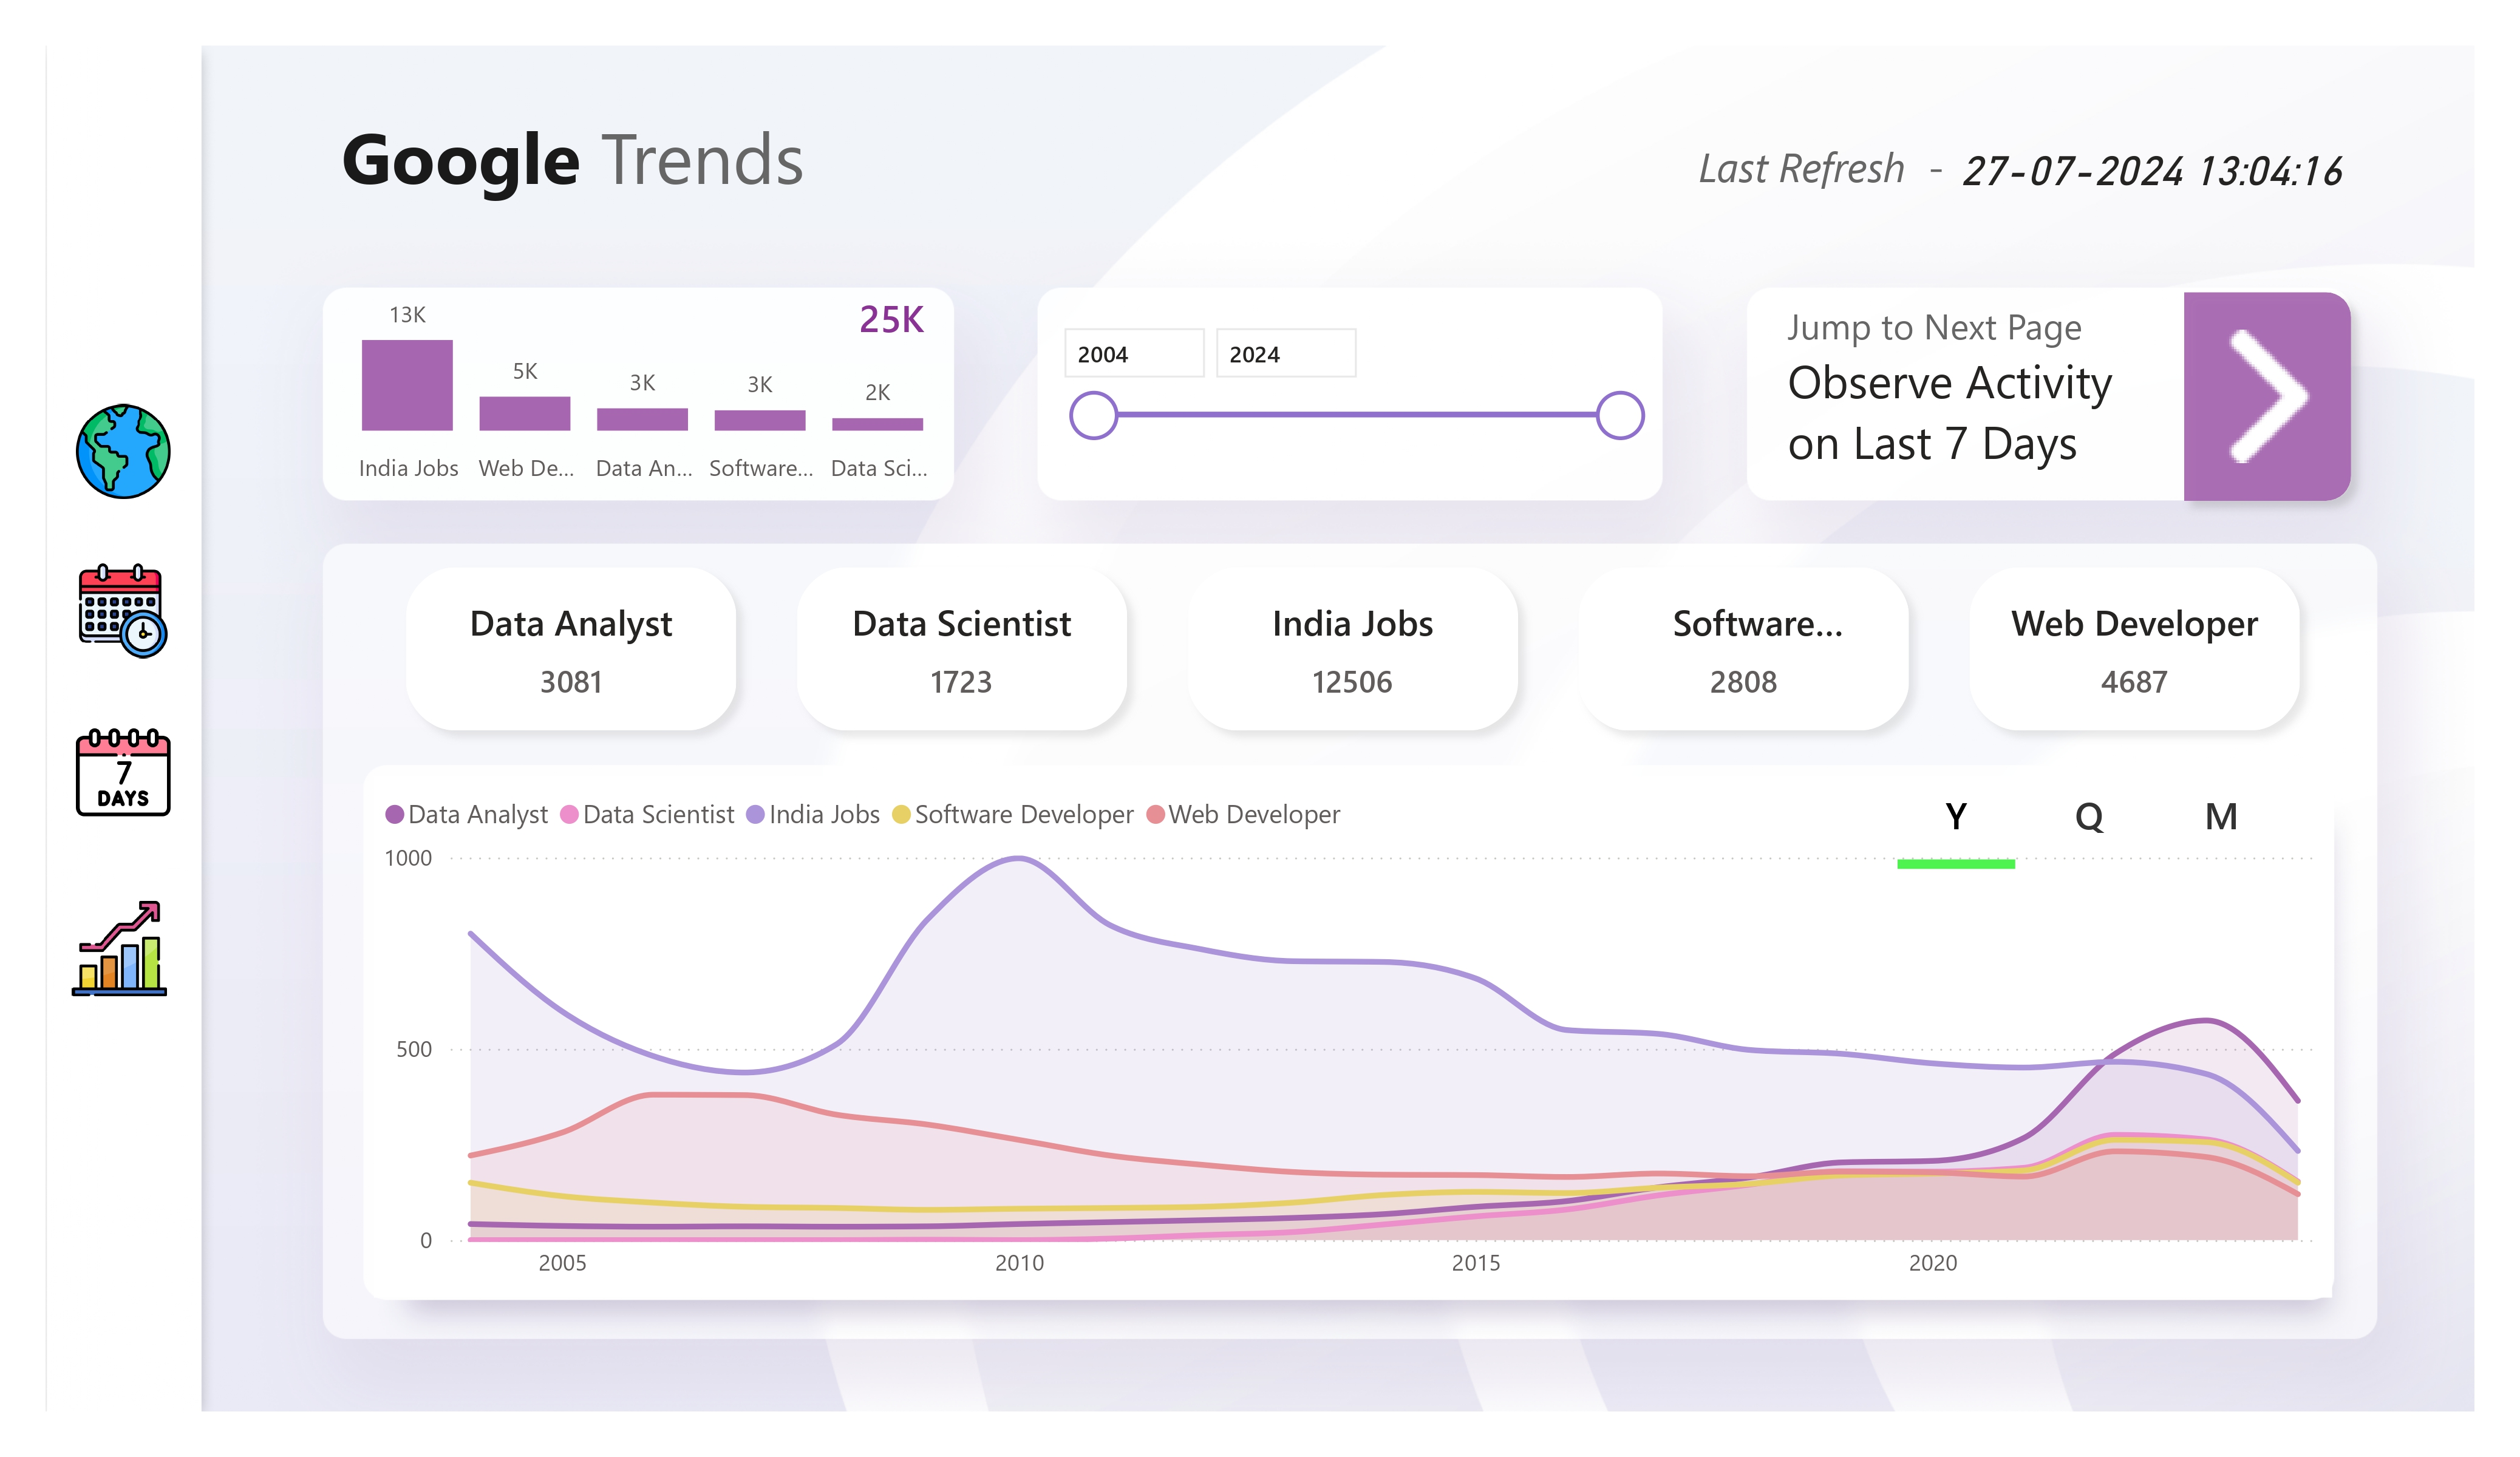

The dashboard page shown, as its layout file describes it:
{"tool":"powerbi","page":{"name":"Keywords By Date","canvas":[1280,720],"ordinal":1},"visuals":[{"type":"lineChart","fields":{"Category":["API_Date.Year"],"Y":["Country Measure Table.By Date Value"],"Series":["API_Date.Keywords"]},"box":[172.5,385,1032.5,275],"z":0},{"type":"slicer","fields":{"Values":["API_Date.Year"]},"box":[523.8,138.8,327.5,98.8],"z":1000},{"type":"advancedSlicerVisual","fields":{"Values":["Dynamic-Date.Dynamic-Date"]},"box":[971.2,370,211.2,68.8],"z":2000},{"type":"advancedSlicerVisual","fields":{"Values":["API_Date.Keywords"]},"box":[172.5,257.5,1032.5,120],"z":3000},{"type":"columnChart","fields":{"Y":["Sum(API_Date.Value)"],"Category":["API_Date.Keywords"]},"box":[128.8,121.2,365,116.2],"z":4000},{"type":"card","fields":{"Values":["Sum(API_Date.Value)"]},"box":[398.8,126.2,93.8,37.5],"z":5000},{"type":"actionButton","title":"Next page","box":[1117.5,121.2,106.2,127.5],"z":6000},{"type":"textbox","box":[912.5,130,232.5,111.2],"z":7000},{"type":"textbox","box":[151.2,27.5,273.8,66.2],"z":8000},{"type":"card","fields":{"Values":["Max(Query1.Refresh Date)"]},"box":[981.2,41.2,256.2,48.8],"z":9000},{"type":"textbox","box":[866.2,43.8,195,48.8],"z":10000},{"type":"actionButton","box":[16.2,188.8,50,50],"z":11000},{"type":"actionButton","box":[16.2,272.5,50,50],"z":12000},{"type":"actionButton","box":[16.2,357.5,50,50],"z":13000},{"type":"actionButton","box":[13.8,451.2,50,50],"z":14000}]}

Visuals, with their boxes in screenshot pixels (x1, y1, x2, y2):
lineChart - API_Date.Year x Country Measure Table.By Date Value: [left=373, top=776, right=2332, bottom=1298]
slicer - API_Date.Year: [left=1040, top=309, right=1661, bottom=497]
advancedSlicerVisual - Dynamic-Date.Dynamic-Date: [left=1888, top=747, right=2289, bottom=878]
advancedSlicerVisual - API_Date.Keywords: [left=373, top=534, right=2332, bottom=762]
columnChart - Sum(API_Date.Value) x API_Date.Keywords: [left=290, top=276, right=982, bottom=496]
card - Sum(API_Date.Value): [left=802, top=285, right=980, bottom=356]
"Next page" actionButton: [left=2166, top=276, right=2368, bottom=517]
textbox: [left=1777, top=292, right=2218, bottom=503]
textbox: [left=333, top=98, right=852, bottom=223]
card - Max(Query1.Refresh Date): [left=1907, top=124, right=2394, bottom=216]
textbox: [left=1689, top=129, right=2059, bottom=221]
actionButton: [left=77, top=404, right=171, bottom=498]
actionButton: [left=77, top=563, right=171, bottom=657]
actionButton: [left=77, top=724, right=171, bottom=818]
actionButton: [left=72, top=902, right=166, bottom=996]
